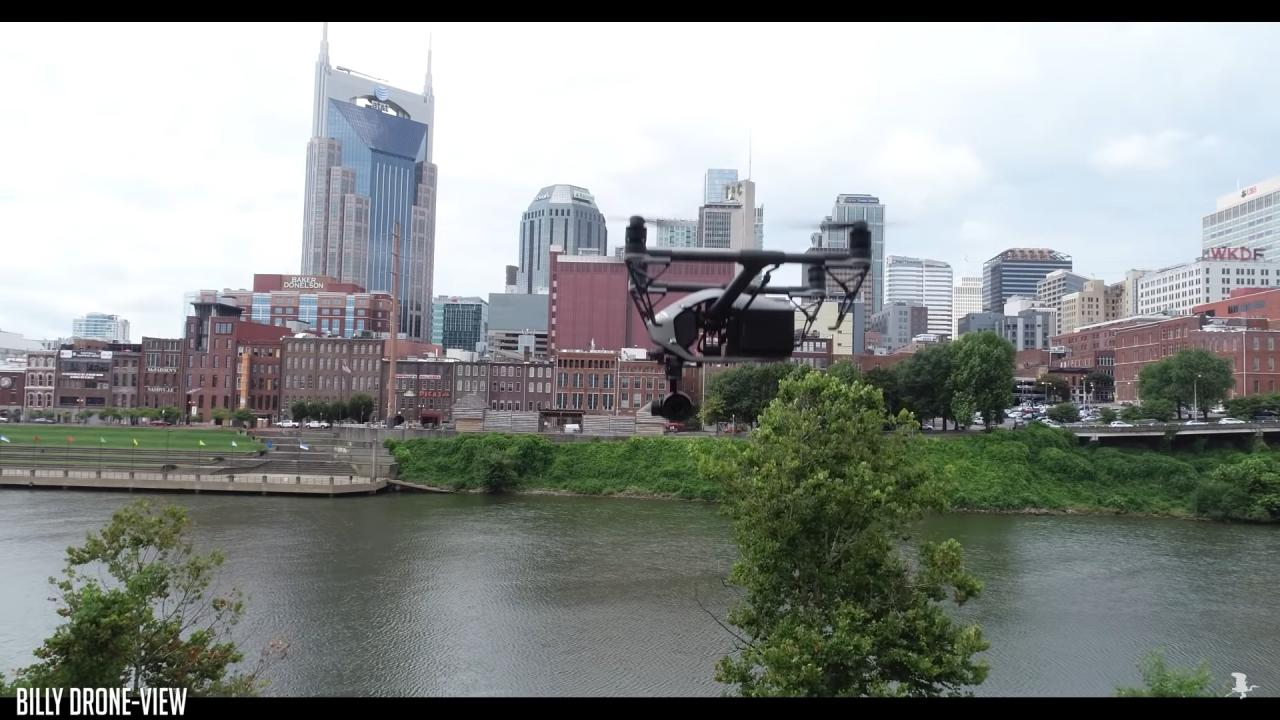Drone: (586, 199, 926, 435)
